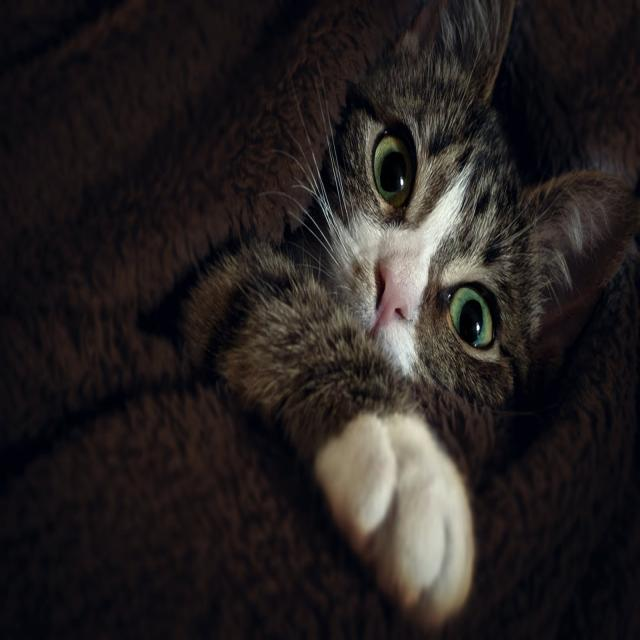Cat: (1, 1, 638, 636)
